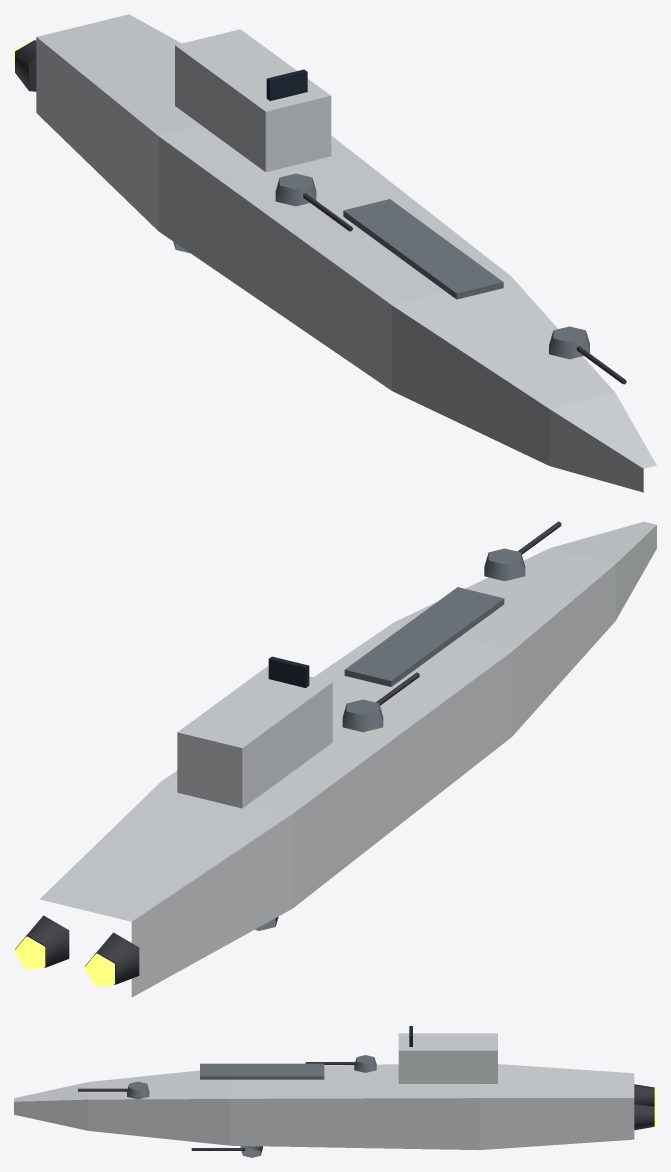
File: space_ship_frigate_mk2_lod1.glb
3 views of the same model, one above another, from view 1: azimuth 30°, elevation 25°; view 2: azimuth 150°, elevation 25°; view 3: azimuth 270°, elevation 25° (orthographic). The views are drawn at different scales.
Parts seen in each view (by area): view 1: body, turret_2, turret_0, engine_0; view 2: body, engine_0, engine_1, turret_0, turret_2; view 3: body, engine_1, turret_0, turret_2, engine_0, turret_1.
Part boxes in pixels (box(x1,y1,x2,y2)): body: box(36, 14, 656, 492); turret_2: box(275, 173, 353, 231); turret_0: box(549, 326, 626, 384); engine_0: box(14, 40, 36, 91); body: box(40, 521, 656, 997); engine_0: box(84, 932, 139, 986); engine_1: box(14, 915, 69, 969); turret_0: box(484, 521, 561, 581); turret_2: box(342, 672, 419, 732); body: box(14, 1026, 634, 1150); engine_1: box(634, 1103, 656, 1130); turret_0: box(78, 1081, 149, 1099); turret_2: box(305, 1055, 376, 1072); engine_0: box(634, 1084, 656, 1106); turret_1: box(191, 1146, 262, 1157).
Size of the model in its own units: 4.53 by 6.8 by 34.82.
